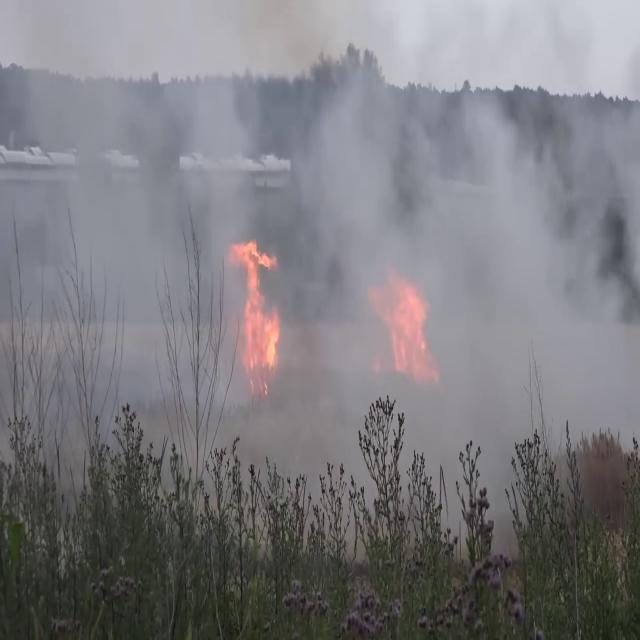Fire: (228, 225, 284, 388), (374, 260, 436, 380)
Smoke: (0, 1, 640, 528)
